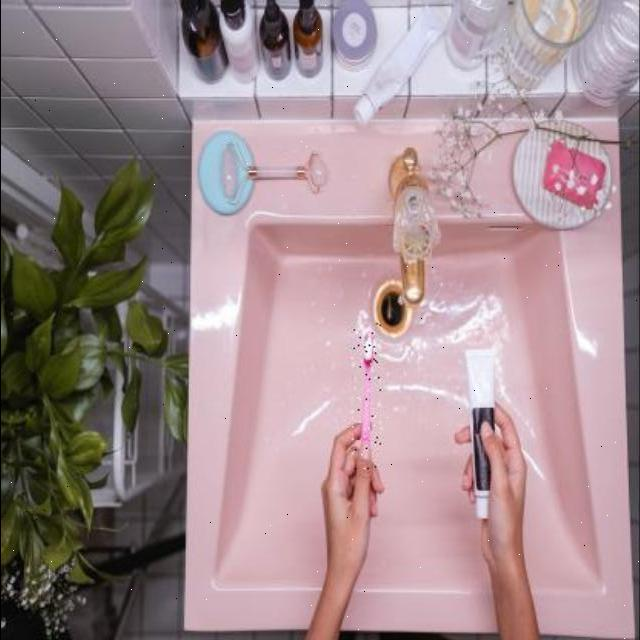toothbrush: (353, 324, 383, 471)
